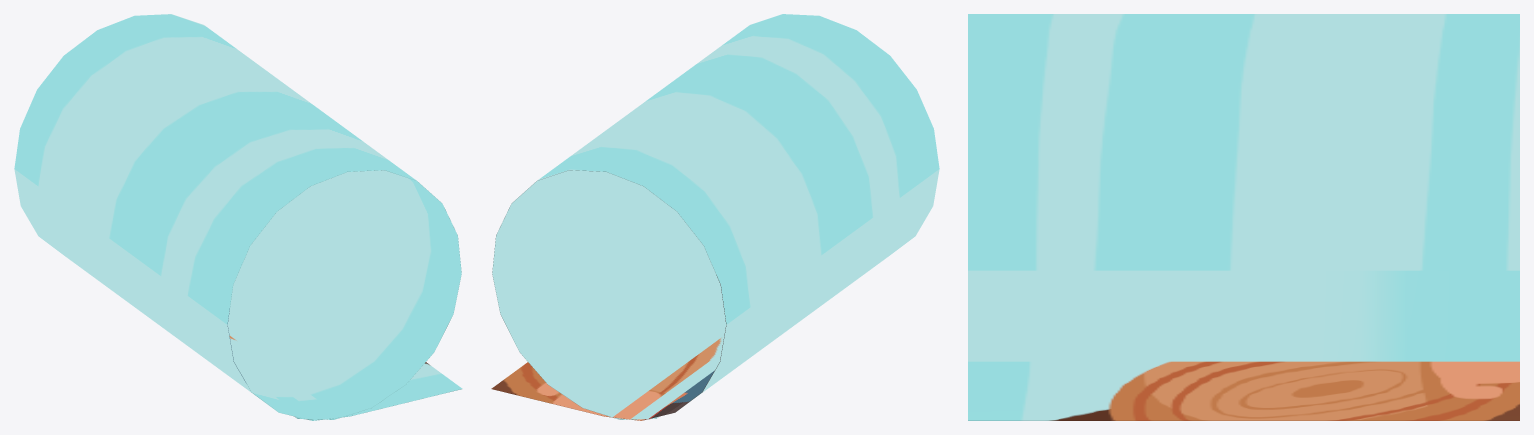
Rendered from Level 172.fbx.
The picture shows the model from 3 angles, left to right: view 1: azimuth 30°, elevation 25°; view 2: azimuth 150°, elevation 25°; view 3: azimuth 270°, elevation 25°; orthographic projection. The views are drawn at different scales.
Visible parts, largest first — view 1: Blend; view 2: Blend; view 3: Blend.
Part boxes in pixels (<box>): Blend: <box>14,14,462,420</box>; Blend: <box>491,14,939,420</box>; Blend: <box>968,14,1519,420</box>.
Size of what is drawn, in the model's own units: 375 by 374 by 588.
